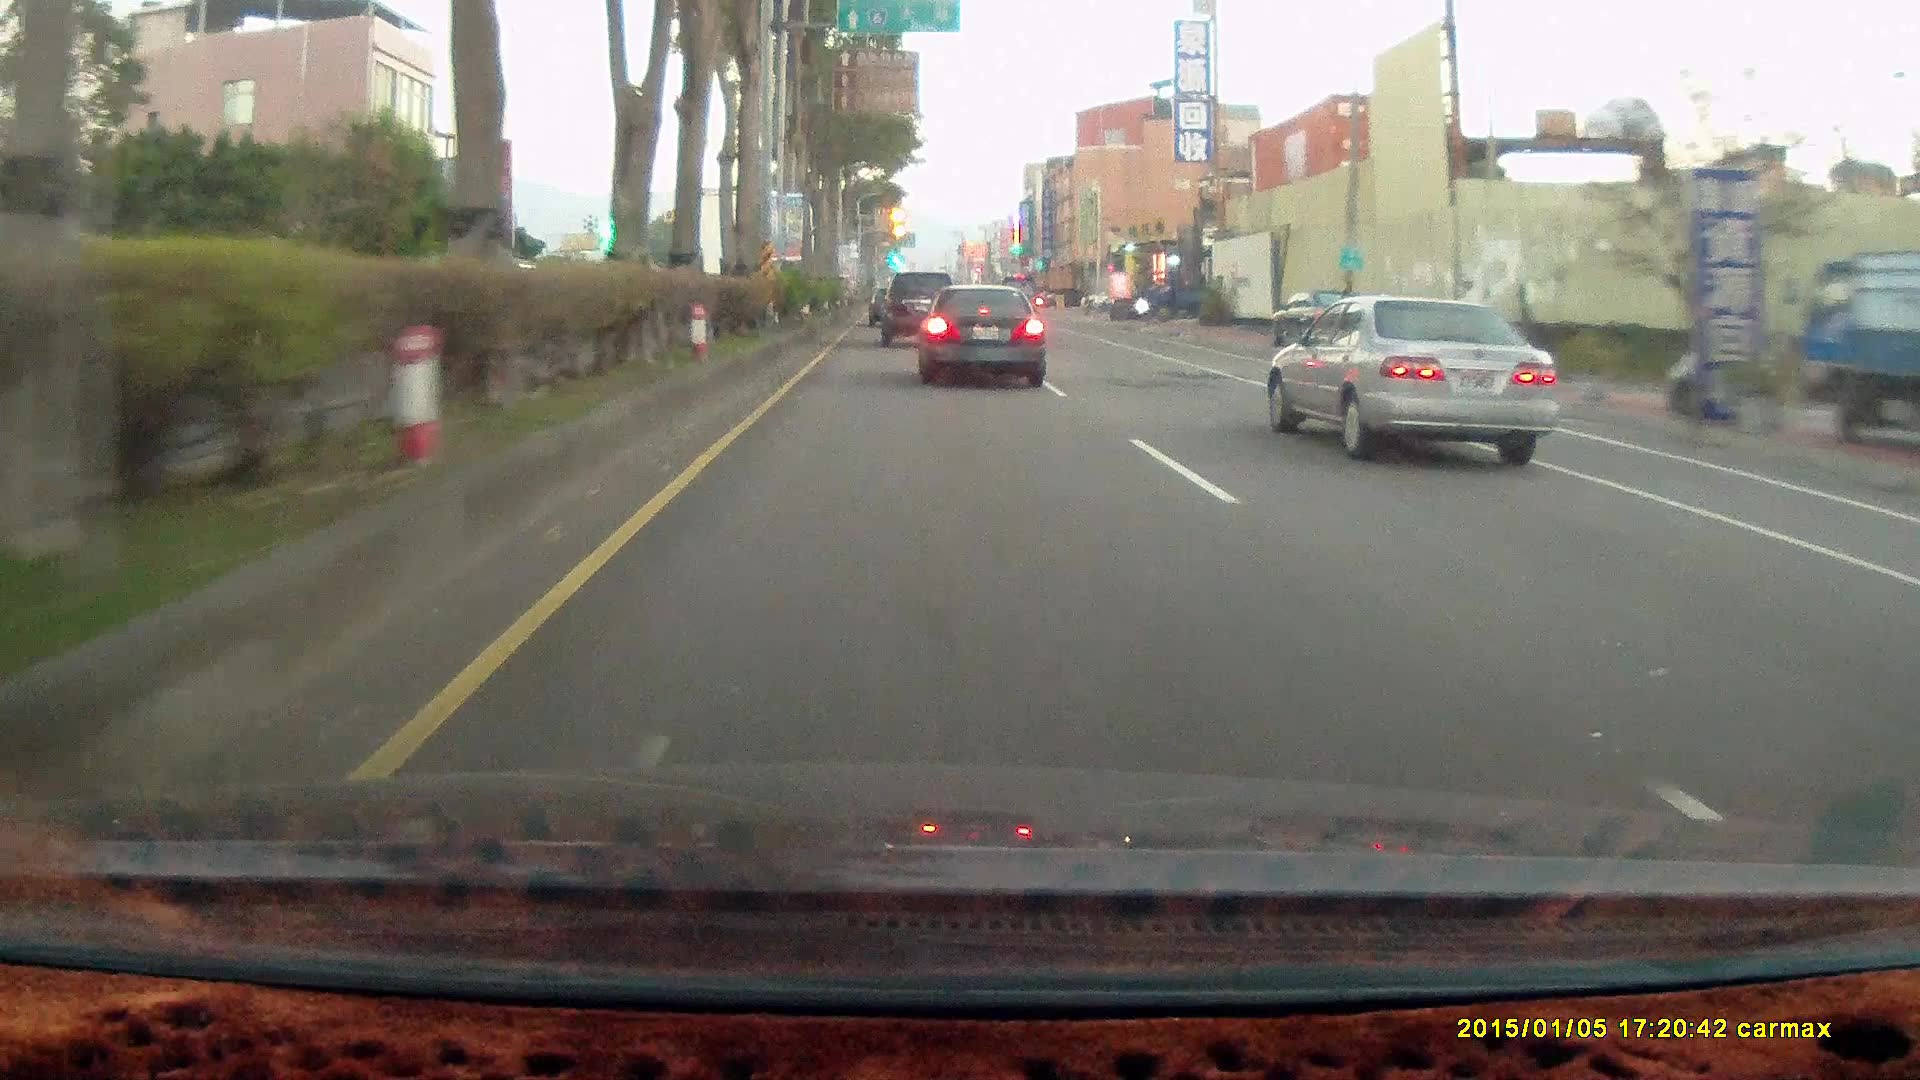vehicle: (1274, 293, 1573, 465), (1266, 293, 1560, 465), (1792, 255, 1920, 458), (913, 281, 1044, 385), (919, 285, 1050, 389), (880, 272, 961, 349), (878, 269, 957, 345), (1134, 269, 1216, 320), (1044, 286, 1085, 307)
